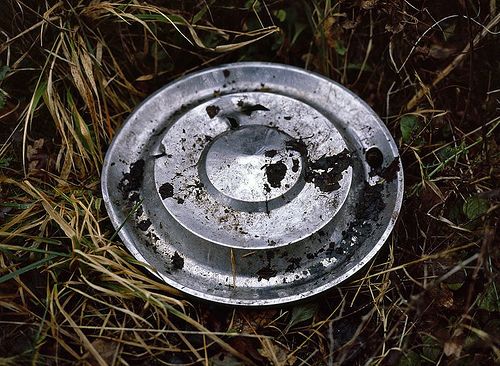litter: (103, 60, 406, 306)
